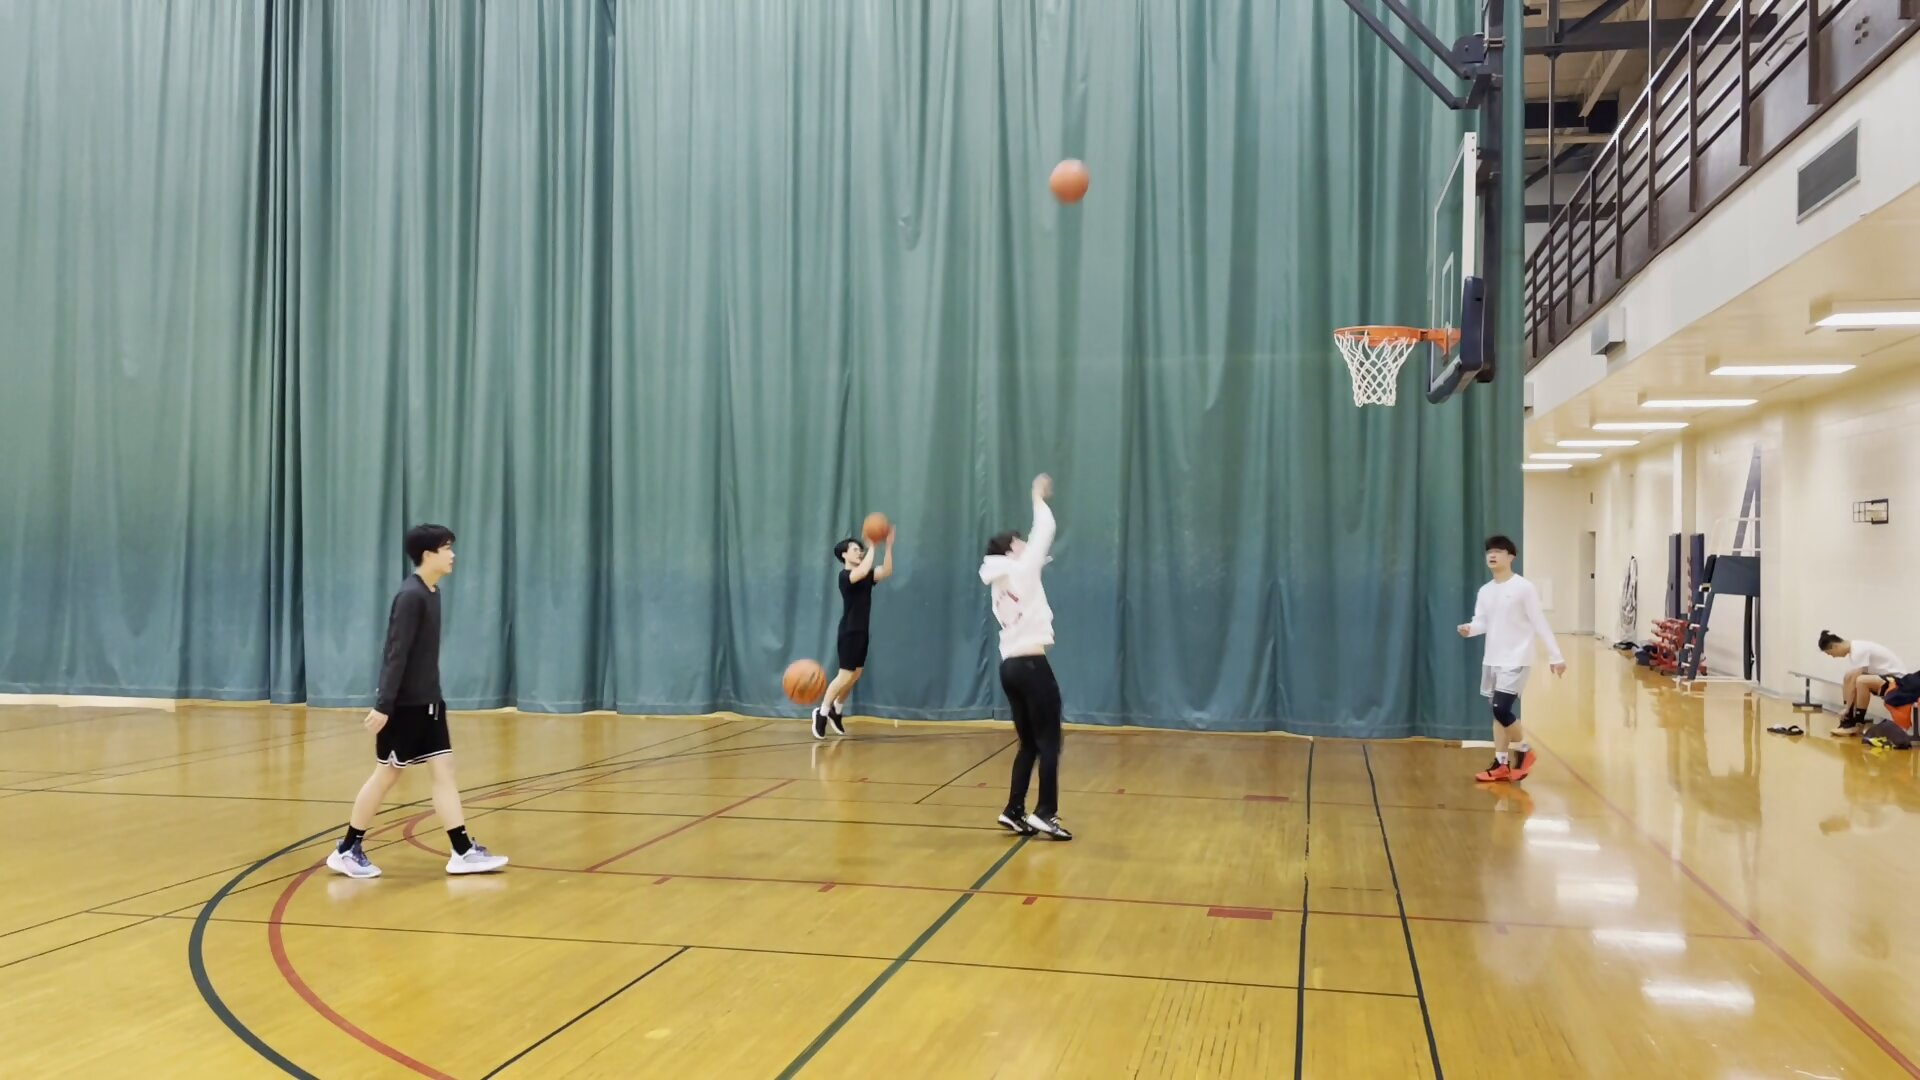ball: (779, 659, 826, 705), (1045, 160, 1092, 205)
net: (1341, 379, 1406, 411)
player: (327, 522, 511, 882), (976, 474, 1072, 846), (1457, 535, 1564, 783), (808, 521, 901, 735), (1814, 626, 1908, 746)
rim: (1330, 322, 1426, 349)
